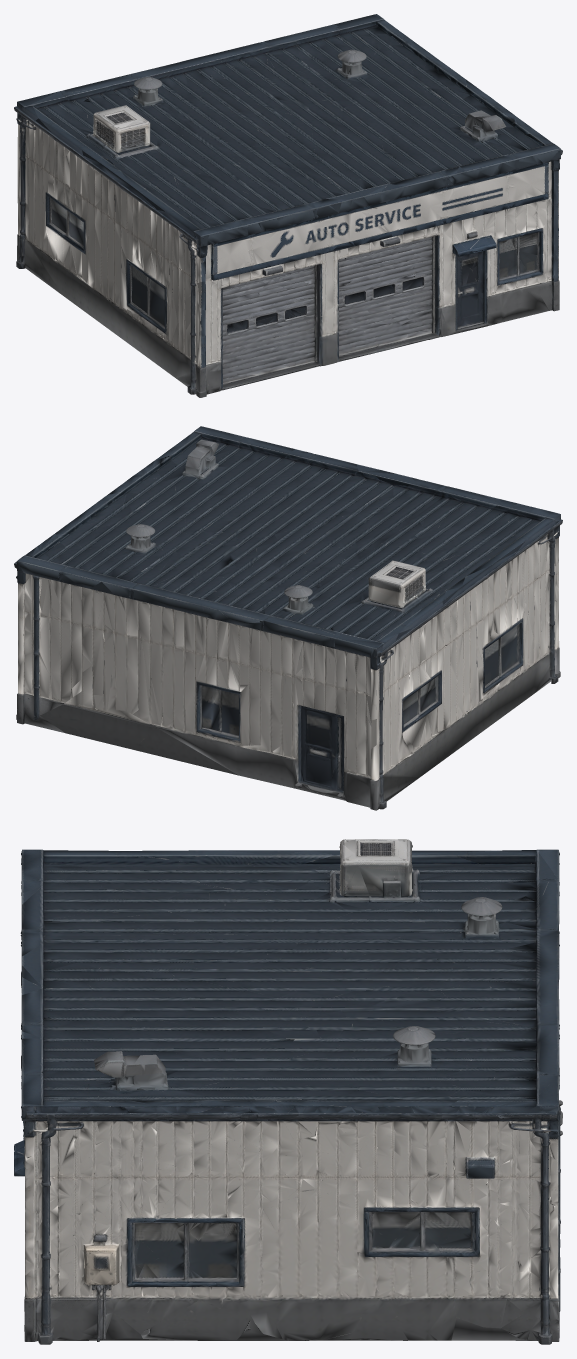
Rendered from building_auto_repair_shop_model.glb.
3 renders of one model, top to bottom at view 1: azimuth 30°, elevation 25°; view 2: azimuth 150°, elevation 25°; view 3: azimuth 270°, elevation 25°, orthographic. The views are drawn at different scales.
Visible parts, largest first — view 1: Mesh_0; view 2: Mesh_0; view 3: Mesh_0.
Boxes of the visible parts, x1,y1,x2,y2 form: Mesh_0: [14, 14, 562, 397]; Mesh_0: [14, 426, 562, 810]; Mesh_0: [14, 839, 562, 1344].
Bounding box in the file's own units: 10.96 × 5.2 × 9.71.
1 material, 1 textured.
